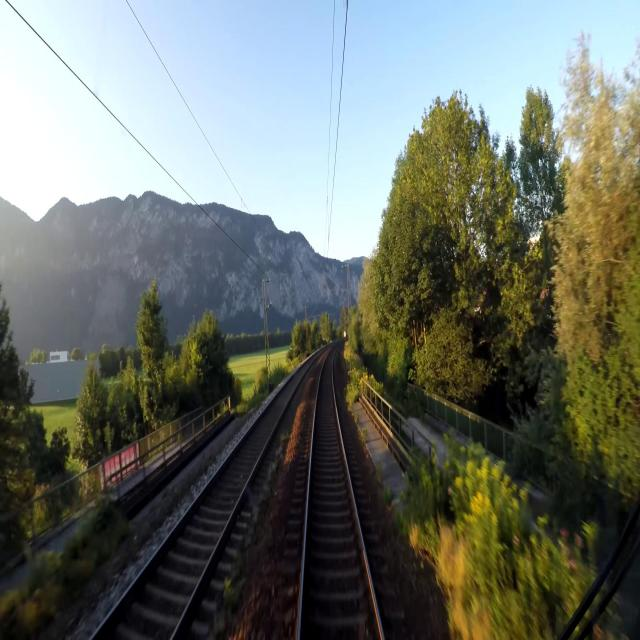rail-track: (95, 360, 310, 639), (301, 351, 380, 639)
